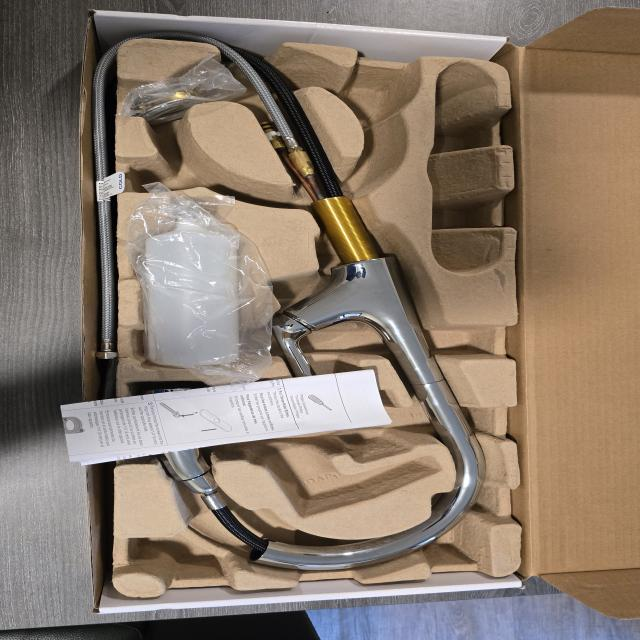1o: (135, 44, 489, 573)
2m: (222, 378, 441, 518)
3: (144, 203, 241, 367)
4m: (428, 63, 502, 273)
5m: (336, 72, 407, 120)
6: (121, 50, 245, 125)
7m: (130, 131, 246, 201)
8: (59, 369, 394, 466)
